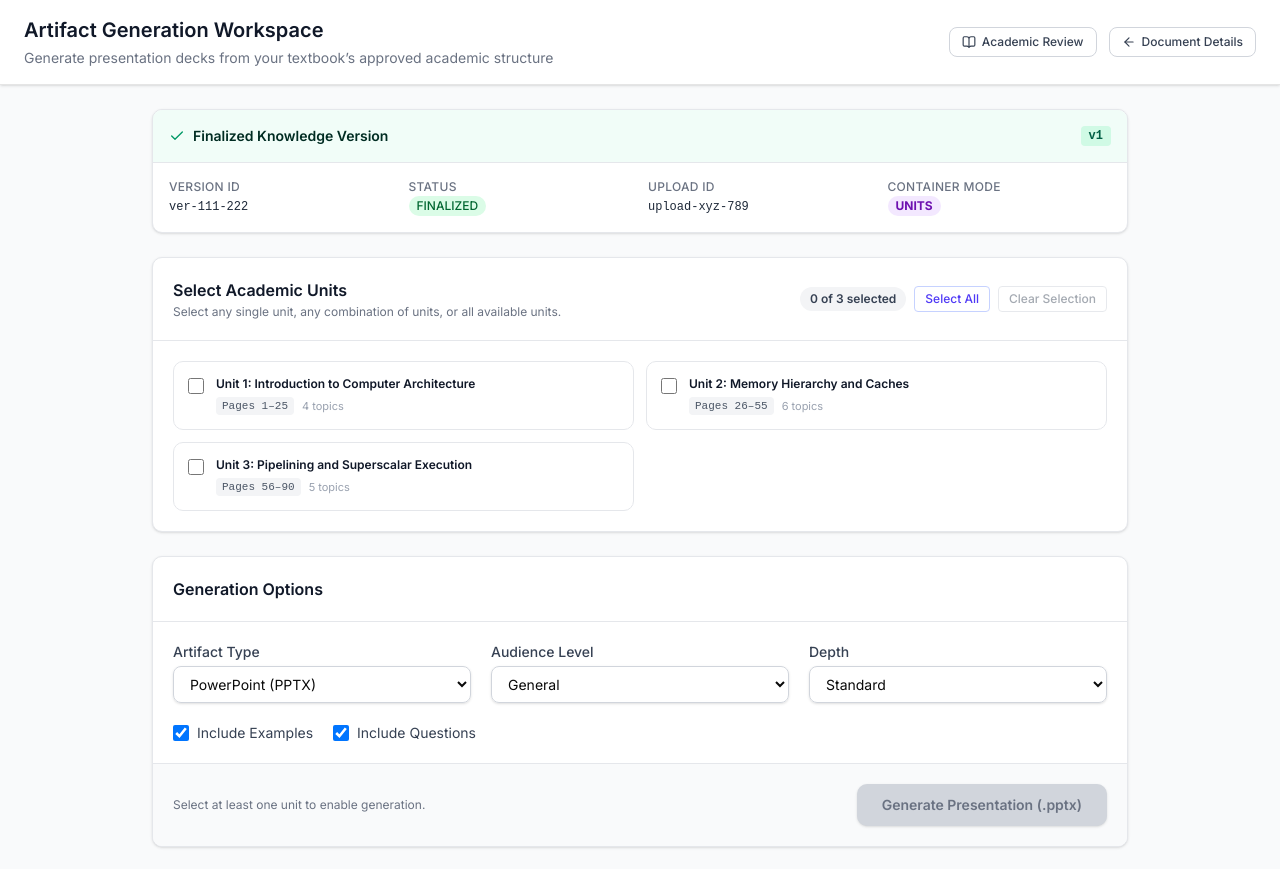
Scenario: ArtifactWorkspacePage › Download and Backend Error Parsing › displays parsed backend workload limit error cleanly
Click the checkbox with test id "container-checkbox-unit-1".
click(196, 386)  # box [188, 378, 204, 394]
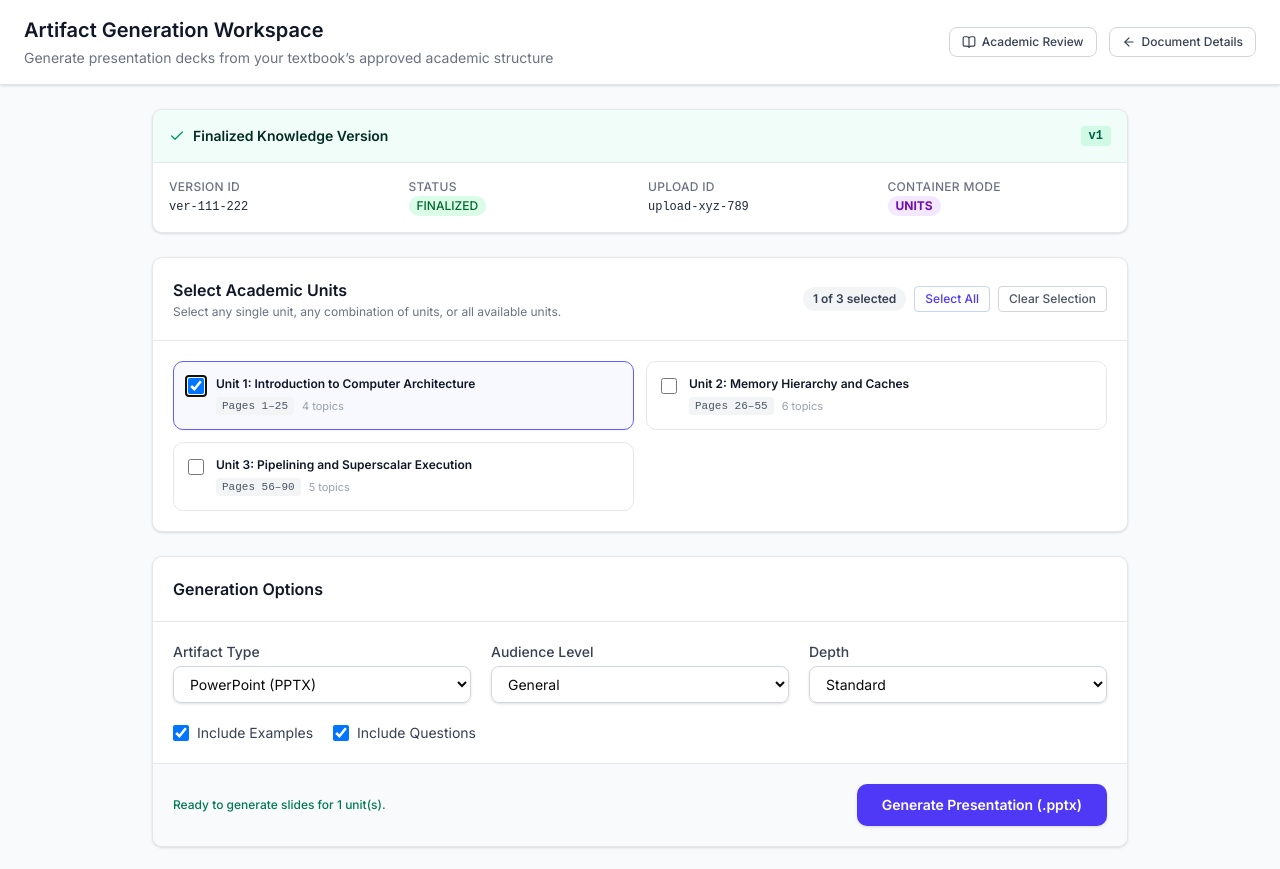
Click the button with test id "generate-button".
click(982, 805)  # box [857, 784, 1107, 826]
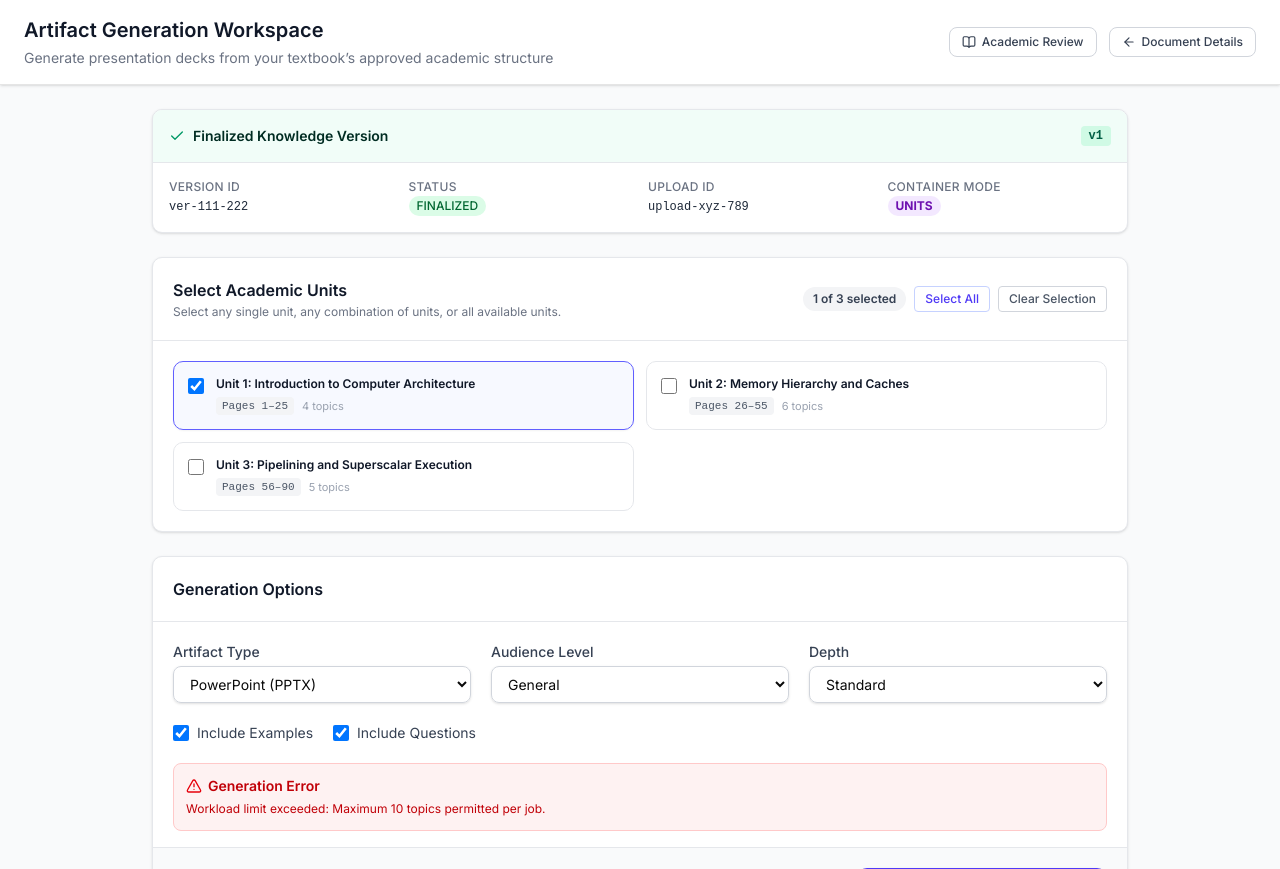
Expected: the element with test id "generate-error" is shown, [173, 763, 1107, 831]
Expected: the element with test id "generate-error" shows "Workload limit exceeded: Maximum 10 topics permitted per job.", [186, 801, 546, 816]
